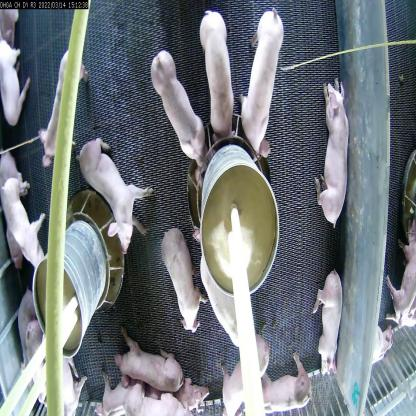Pig: (82, 132, 145, 244), (151, 42, 205, 172), (238, 16, 287, 152), (188, 11, 236, 136), (151, 224, 205, 328), (38, 50, 90, 156), (314, 80, 352, 225), (307, 261, 350, 388), (215, 328, 270, 415), (1, 167, 43, 267), (119, 332, 176, 400), (110, 382, 202, 416), (257, 363, 307, 416)
